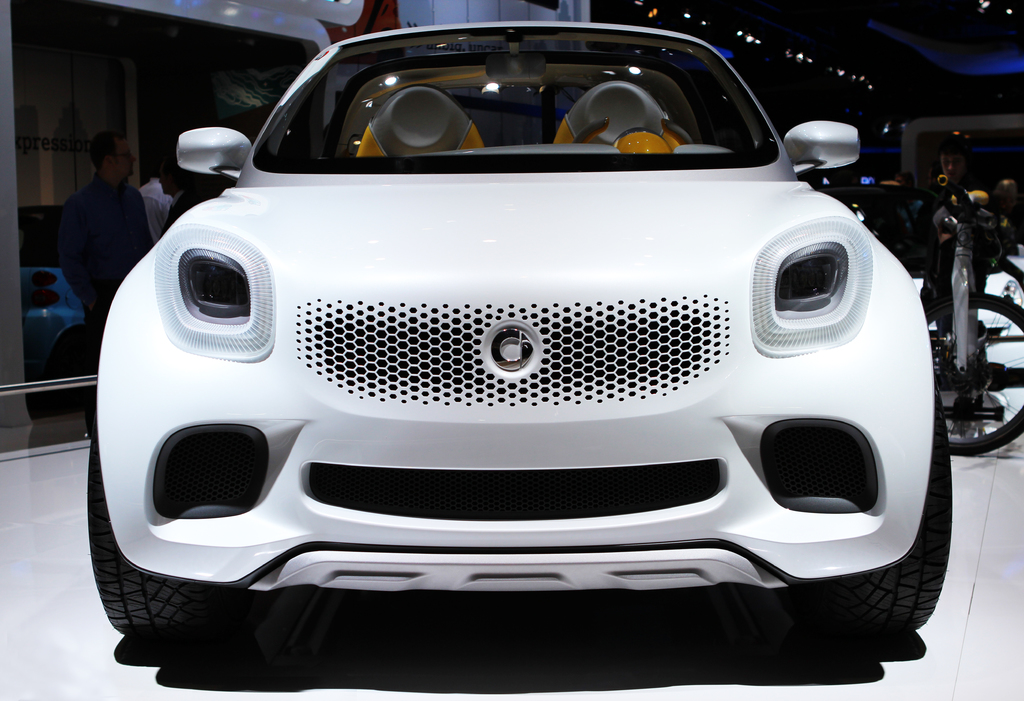Car: (83, 19, 951, 640), (20, 208, 85, 414)
